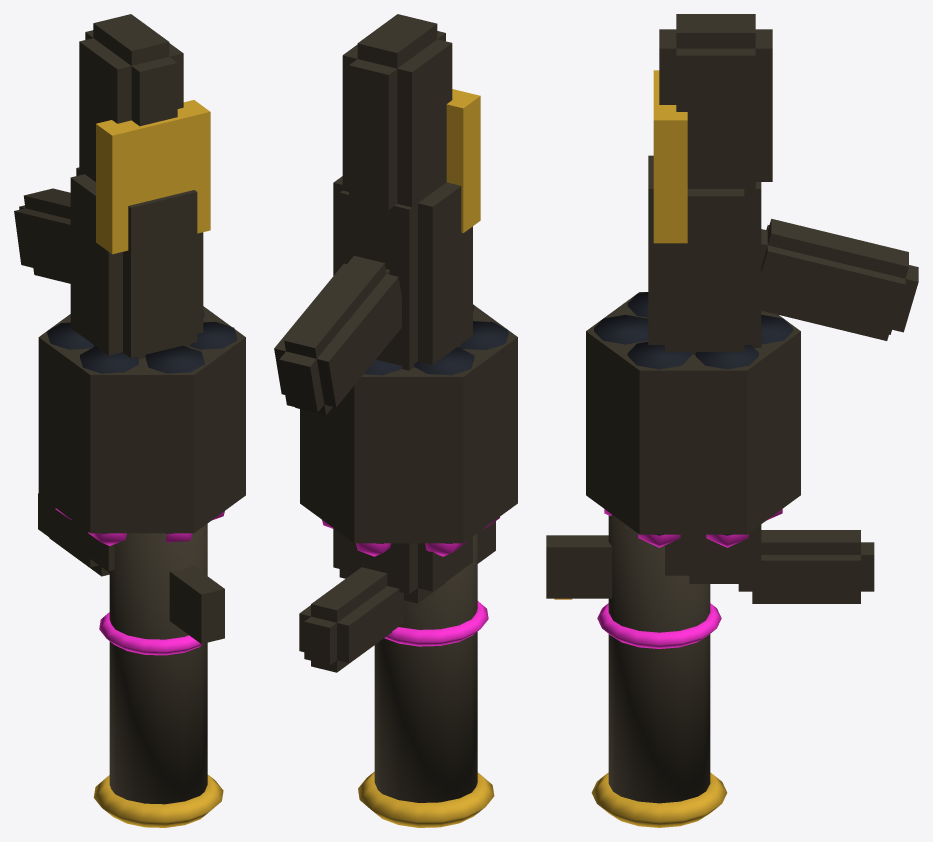
File: shooter-launcher.glb
The picture shows the model from 3 angles, left to right: view 1: azimuth 30°, elevation 25°; view 2: azimuth 150°, elevation 25°; view 3: azimuth 270°, elevation 25°; orthographic projection. The views are drawn at different scales.
Visible parts, largest first — view 1: Model Mesh, Drum Mesh; view 2: Model Mesh, Drum Mesh; view 3: Model Mesh, Drum Mesh.
Boxes of the visible parts, bbox=[...] form: Model Mesh: bbox=[14, 14, 224, 827]; Drum Mesh: bbox=[38, 306, 245, 545]; Model Mesh: bbox=[274, 14, 495, 827]; Drum Mesh: bbox=[300, 304, 517, 556]; Model Mesh: bbox=[546, 14, 918, 827]; Drum Mesh: bbox=[586, 292, 800, 547].
Bounding box in the file's own units: 0.1645 × 0.762 × 0.329.
Materials: 2 (2 with a texture image).
